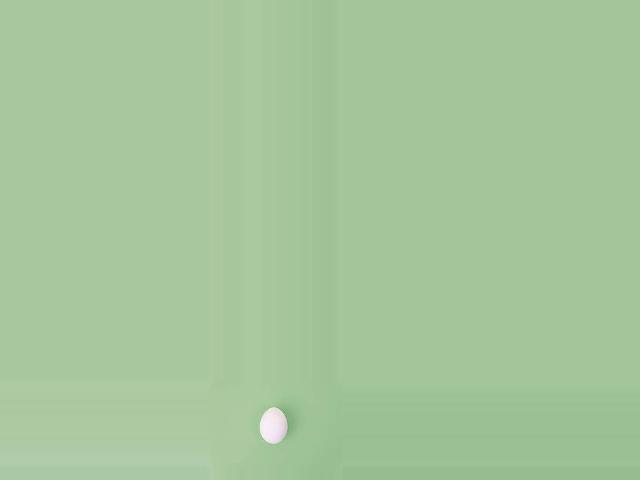egg: (259, 407, 287, 444)
